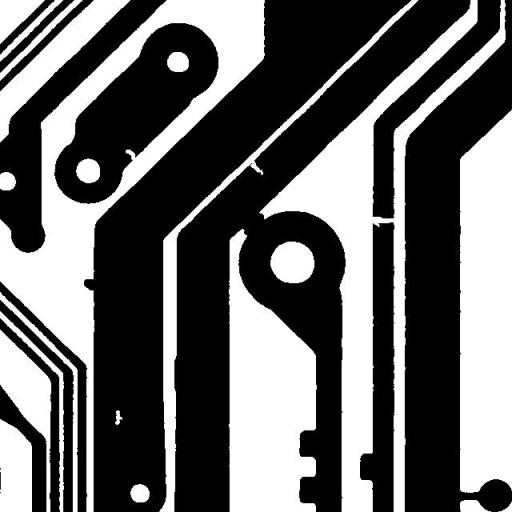mousebite: (242, 152, 270, 182), (118, 142, 142, 167)
open: (362, 209, 404, 234)
pin-hole: (107, 402, 130, 432)
short: (234, 205, 272, 242)
spur: (76, 271, 104, 298)
